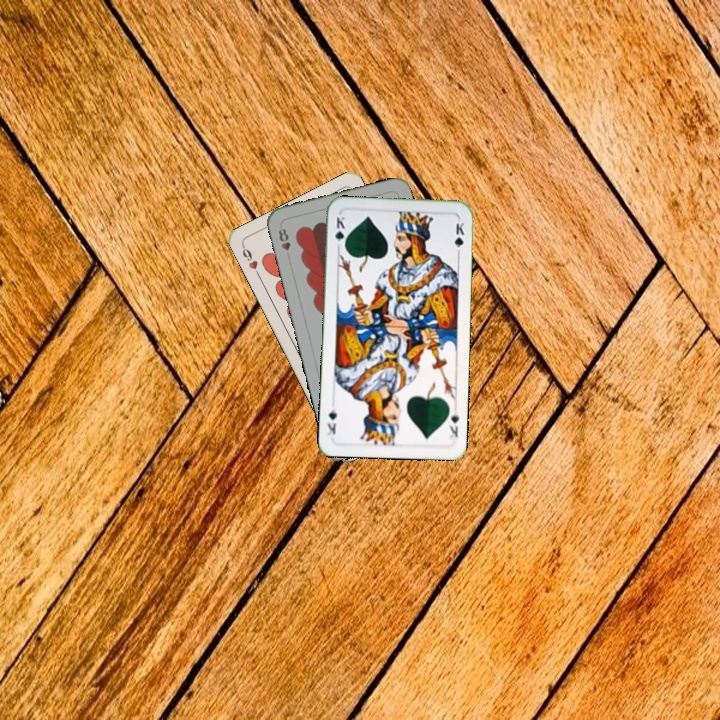GK: (331, 212, 348, 252), (445, 408, 461, 440)
H8: (274, 225, 293, 262)
H9: (238, 241, 262, 279)
